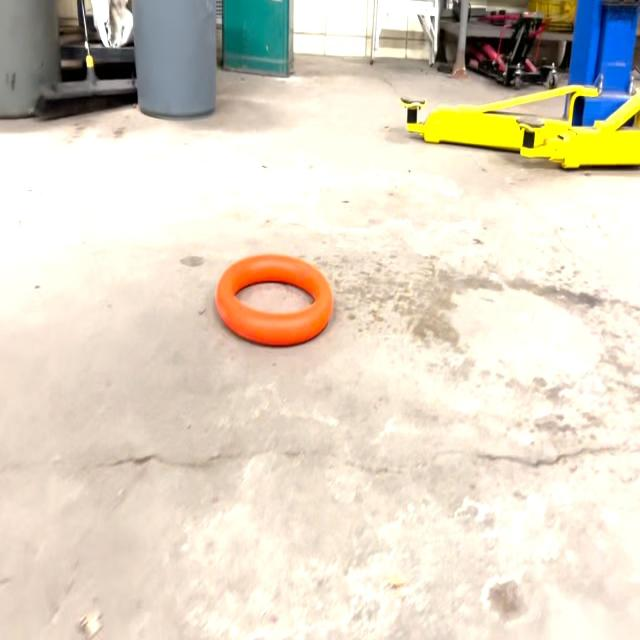note: (214, 250, 336, 346)
